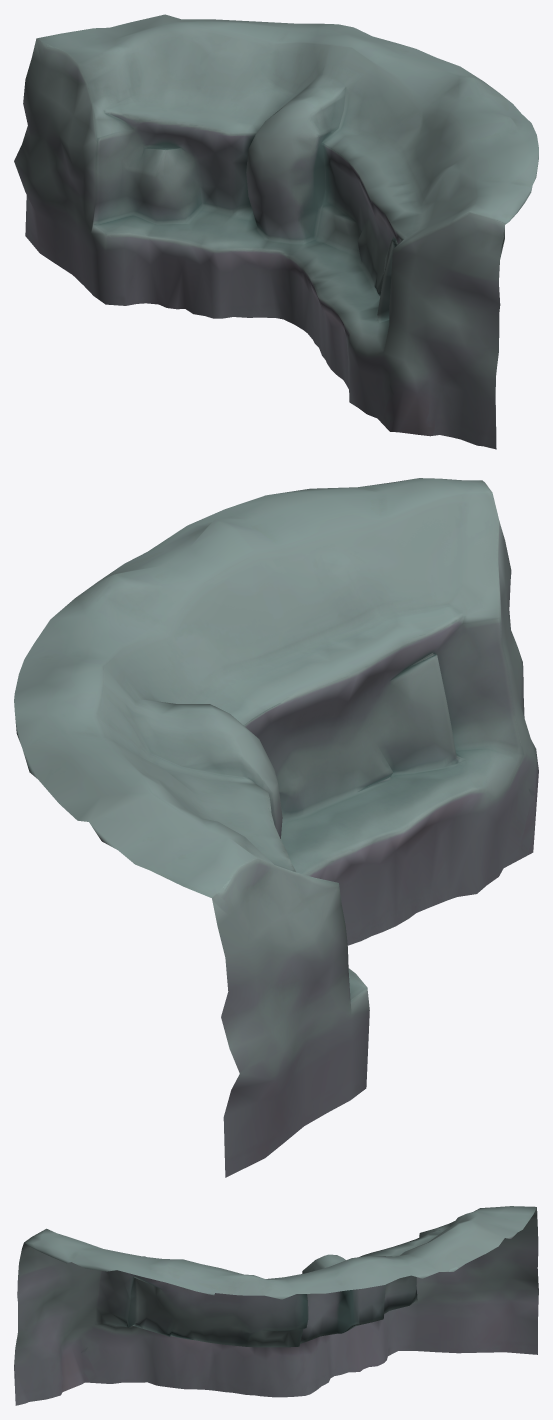
The model's file is SM_Rock_Wall_05.fbx.
3 views of the same model, one above another, from view 1: azimuth 30°, elevation 25°; view 2: azimuth 150°, elevation 25°; view 3: azimuth 270°, elevation 25° (orthographic). The views are drawn at different scales.
Visible parts, largest first — view 1: pCube110; view 2: pCube110; view 3: pCube110.
Part boxes in pixels (x1=…): pCube110: x1=14, y1=14, x2=538, y2=449; pCube110: x1=14, y1=478, x2=538, y2=1177; pCube110: x1=14, y1=1206, x2=538, y2=1405.
Bounding box in the file's own units: 1160 × 860 × 2260.
